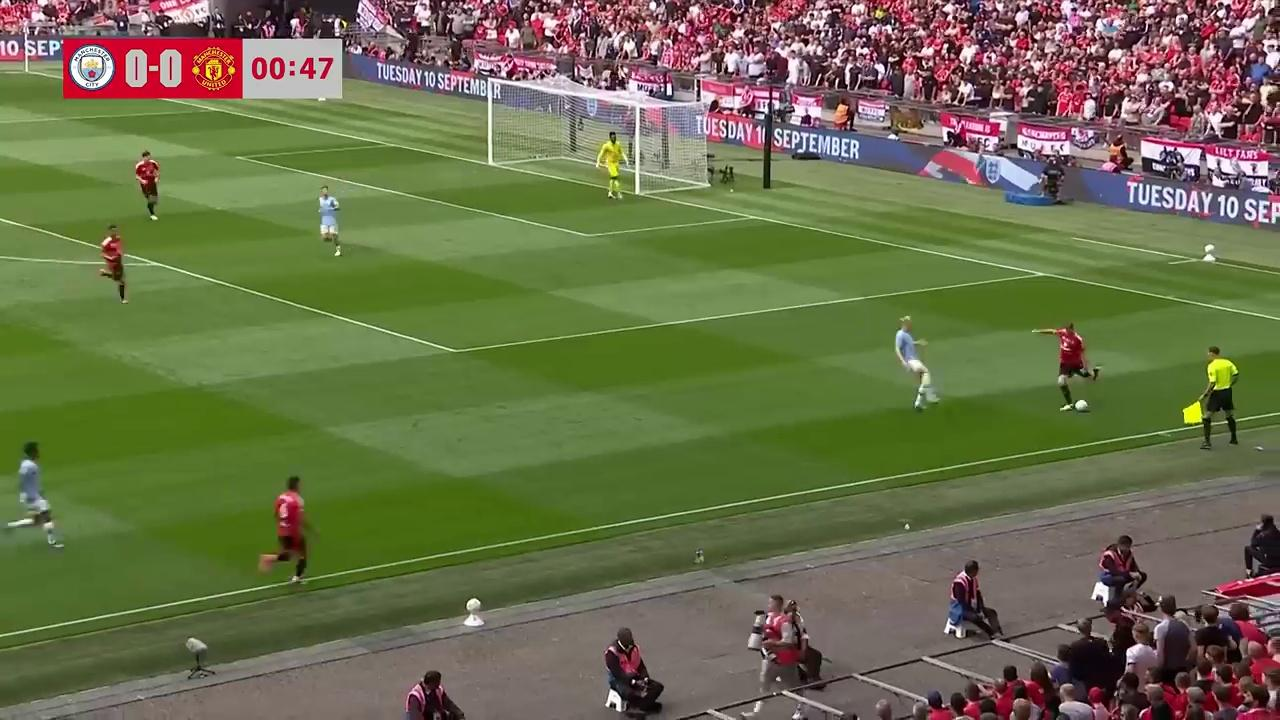ball: (1074, 398, 1088, 412)
player: (258, 475, 312, 585), (10, 441, 63, 550), (894, 318, 939, 414), (1051, 319, 1086, 410), (98, 223, 125, 299), (595, 133, 624, 200), (135, 149, 160, 220), (317, 185, 341, 256)
referee: (1202, 346, 1239, 449)
